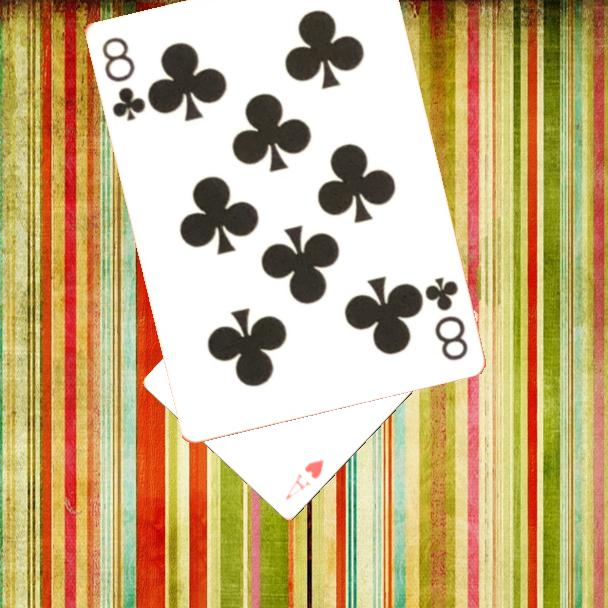c08: (98, 33, 148, 124), (420, 273, 470, 364)
h01: (282, 456, 327, 503)
